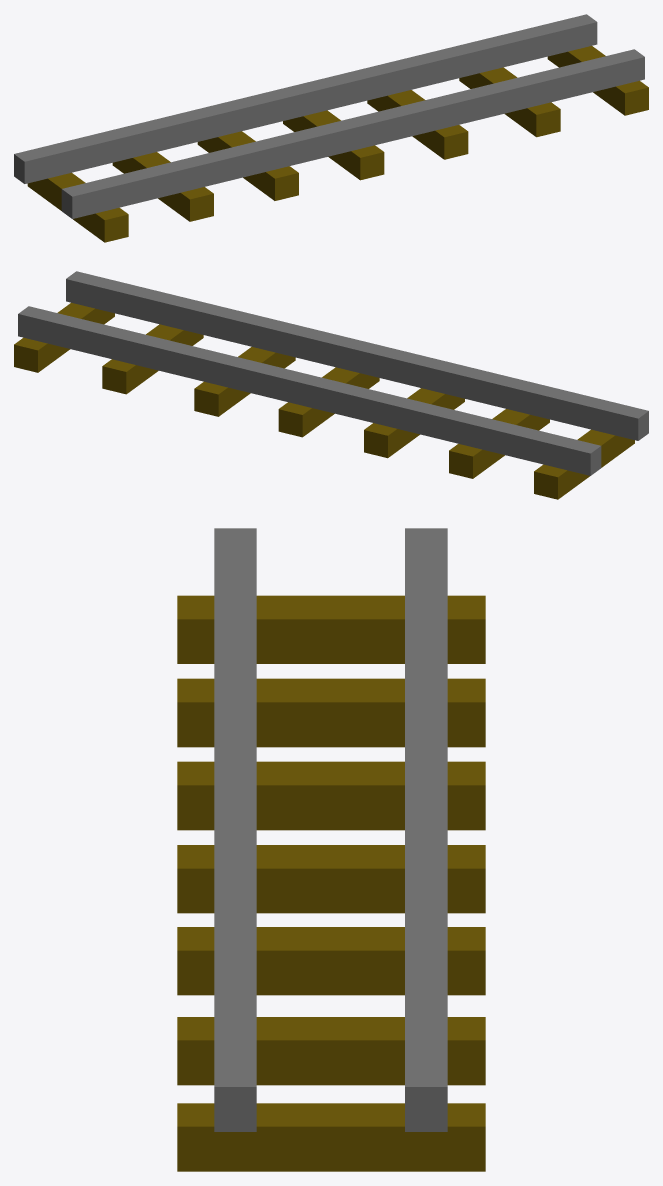
Rendered from Train tracks.fbx.
3 views of the same model, one above another, from view 1: azimuth 30°, elevation 25°; view 2: azimuth 150°, elevation 25°; view 3: azimuth 270°, elevation 25° (orthographic). The views are drawn at different scales.
Parts seen in each view (by area): view 1: polySurface8, polySurface9, polySurface1, polySurface5, polySurface4, polySurface6, polySurface7, polySurface2, polySurface3; view 2: polySurface8, polySurface9, polySurface1, polySurface4, polySurface5, polySurface6, polySurface2, polySurface3, polySurface7; view 3: polySurface8, polySurface9, polySurface7, polySurface2, polySurface3, polySurface1, polySurface4, polySurface5, polySurface6.
Boxes of the visible parts, x1,y1,x2,y2 form: polySurface8: (14, 14, 597, 183); polySurface9: (61, 49, 644, 218); polySurface1: (27, 172, 128, 242); polySurface5: (367, 90, 468, 159); polySurface4: (283, 110, 384, 180); polySurface6: (459, 67, 560, 137); polySurface7: (547, 46, 648, 115); polySurface2: (112, 152, 213, 221); polySurface3: (197, 131, 298, 200); polySurface8: (18, 306, 601, 475); polySurface9: (66, 271, 648, 440); polySurface1: (534, 429, 634, 499); polySurface4: (278, 367, 379, 437); polySurface5: (194, 347, 295, 416); polySurface6: (102, 324, 203, 394); polySurface2: (449, 409, 549, 478); polySurface3: (364, 388, 464, 458); polySurface7: (14, 302, 114, 372); polySurface8: (405, 528, 447, 1131); polySurface9: (214, 528, 256, 1131); polySurface7: (177, 1103, 485, 1171); polySurface2: (177, 678, 485, 747); polySurface3: (177, 761, 485, 830); polySurface1: (177, 595, 485, 663); polySurface4: (177, 845, 485, 913); polySurface5: (177, 927, 485, 995); polySurface6: (177, 1017, 485, 1085).
Size of the model in its own units: 9.04 by 0.6769 by 2.11.
